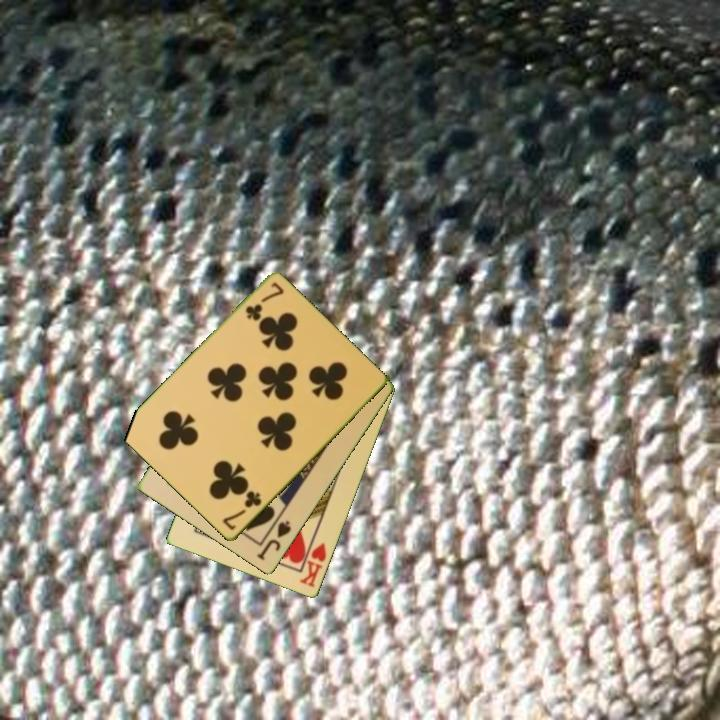7c: (219, 487, 265, 533), (242, 279, 287, 324)
Js: (253, 517, 294, 564)
Kh: (296, 533, 329, 591)
